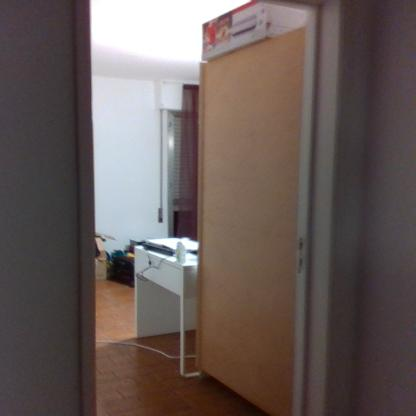open: (68, 0, 354, 416)
